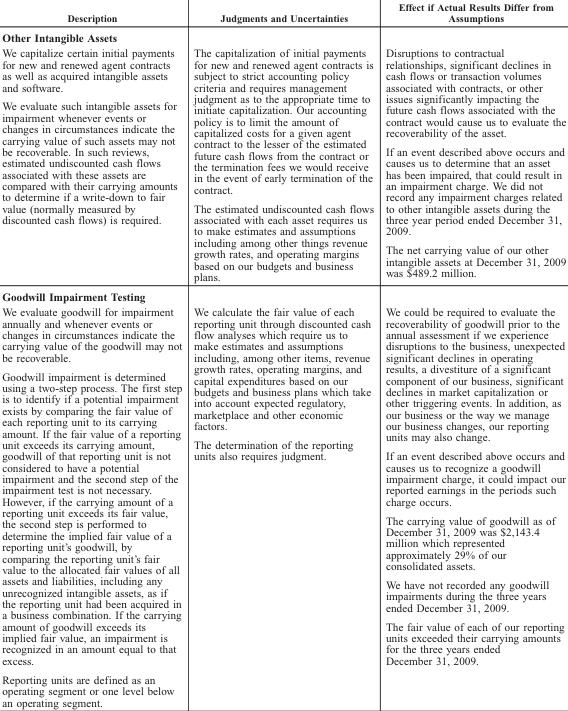table: (1, 0, 565, 707)
table column: (187, 0, 379, 707), (1, 0, 187, 707), (379, 0, 565, 707)
table column header: (1, 0, 565, 27)
table projected row header: (1, 27, 565, 45), (1, 286, 565, 304)
table row: (1, 304, 565, 707), (1, 45, 565, 286), (1, 0, 565, 27), (1, 27, 565, 45), (1, 286, 565, 304)
